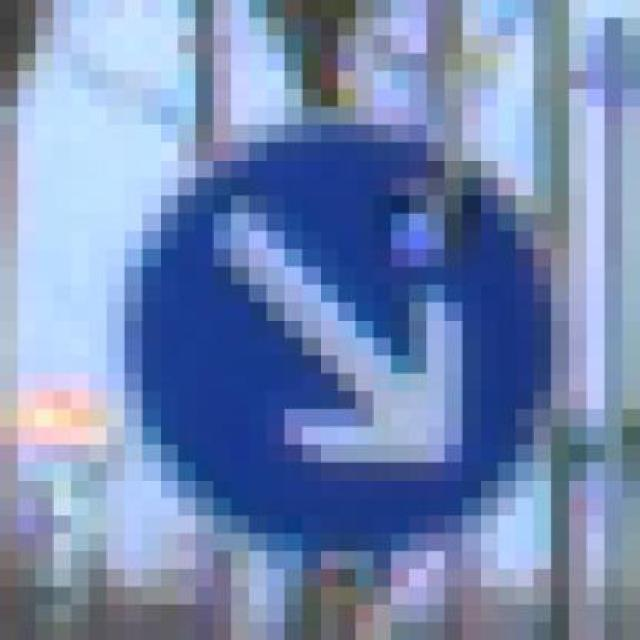Keep-Right: (89, 89, 605, 552)
